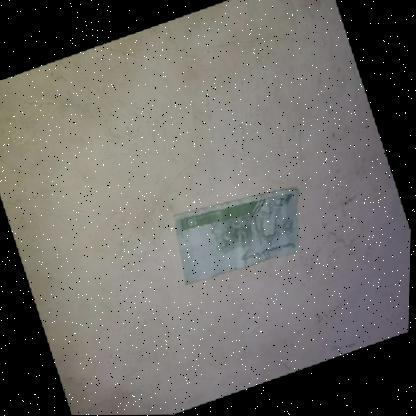fifty-back-vef: (169, 184, 316, 286)
